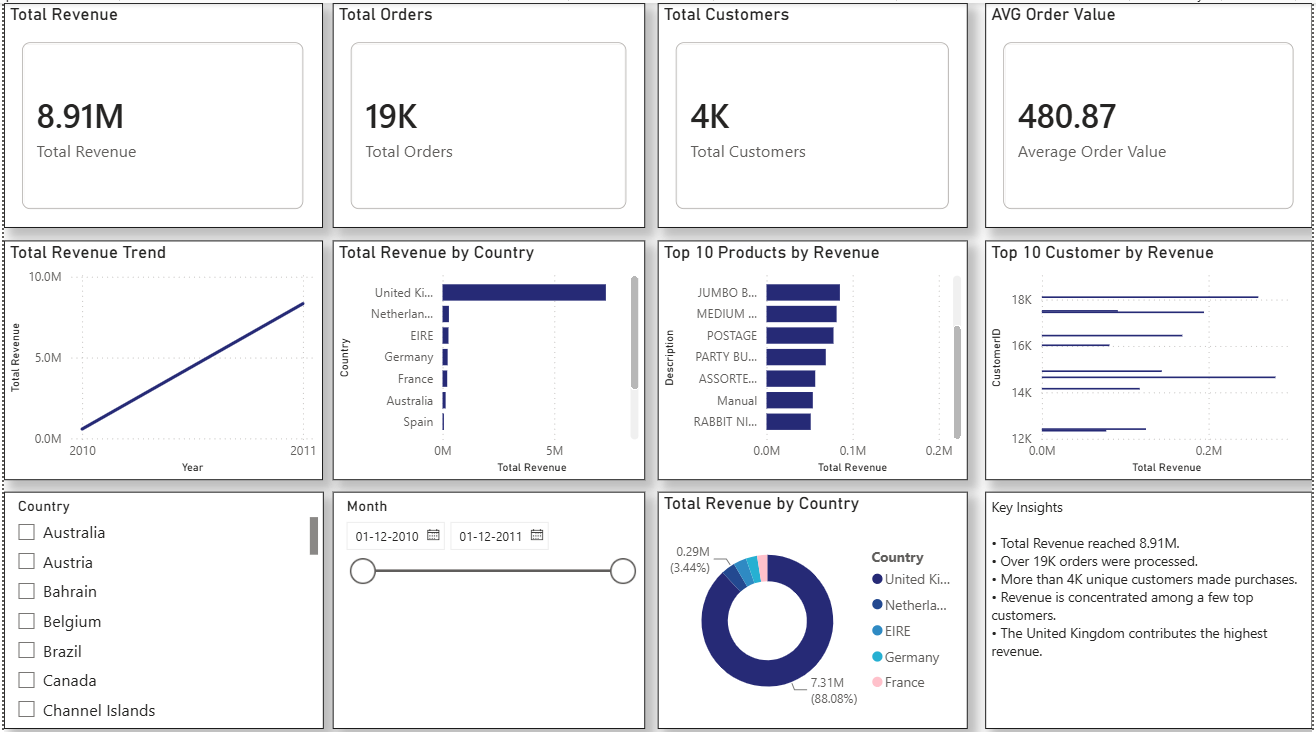

This screenshot's page, from the dashboard's own definition file:
{"tool":"powerbi","page":{"name":"Page 1","canvas":[1280,720],"ordinal":0},"visuals":[{"type":"cardVisual","title":"Total Revenue","fields":{"Data":["cleaned_ecommerce.Total Revenue"]},"box":[0,0,311.8,220.1],"z":0},{"type":"cardVisual","title":"Total Orders","fields":{"Data":["cleaned_ecommerce.Total Orders"]},"box":[321.6,0,305.7,220.1],"z":1000},{"type":"cardVisual","title":"Total Customers","fields":{"Data":["cleaned_ecommerce.Total Customers"]},"box":[639.5,0,303.3,220.1],"z":2000},{"type":"cardVisual","title":"AVG Order Value","fields":{"Data":["cleaned_ecommerce.Average Order Value"]},"box":[959.9,0,320.4,220.1],"z":3000},{"type":"lineChart","title":"Total Revenue Trend","fields":{"Category":["cleaned_ecommerce.Month.Variation.Date Hierarchy.Year","cleaned_ecommerce.Month.Variation.Date Hierarchy.Quarter","cleaned_ecommerce.Month.Variation.Date Hierarchy.Month","cleaned_ecommerce.Month.Variation.Date Hierarchy.Day"],"Y":["cleaned_ecommerce.Total Revenue"]},"box":[0,232.3,311.8,234.8],"z":4000},{"type":"clusteredBarChart","fields":{"Category":["cleaned_ecommerce.Country"],"Y":["cleaned_ecommerce.Total Revenue"]},"box":[321.6,232.3,305.7,234.8],"z":5000},{"type":"clusteredBarChart","title":"Top 10 Products by Revenue","fields":{"Category":["cleaned_ecommerce.Description"],"Y":["cleaned_ecommerce.Total Revenue"]},"box":[639.5,232.3,303.3,234.8],"z":6000},{"type":"clusteredBarChart","title":"Top 10 Customer by Revenue","fields":{"Category":["cleaned_ecommerce.CustomerID"],"Y":["cleaned_ecommerce.Total Revenue"]},"box":[959.9,232.3,320.4,234.8],"z":7000},{"type":"slicer","fields":{"Values":["cleaned_ecommerce.Country"]},"box":[0,478.1,313,232.3],"z":8000},{"type":"slicer","fields":{"Values":["cleaned_ecommerce.Month"]},"box":[321.6,478.1,305.7,232.3],"z":9000},{"type":"donutChart","fields":{"Category":["cleaned_ecommerce.Country"],"Y":["cleaned_ecommerce.Total Revenue"]},"box":[639.5,478.1,303.3,232.3],"z":10000},{"type":"textbox","box":[959.9,478.1,320.4,232.3],"z":11000}]}

Visuals, with their boxes in screenshot pixels (x1, y1, x2, y2), scaled from the page's 1280x720 canvas onto the 1316x732 screenshot:
"Total Revenue" cardVisual: (left=0, top=0, right=321, bottom=224)
"Total Orders" cardVisual: (left=331, top=0, right=645, bottom=224)
"Total Customers" cardVisual: (left=657, top=0, right=969, bottom=224)
"AVG Order Value" cardVisual: (left=987, top=0, right=1315, bottom=224)
"Total Revenue Trend" lineChart: (left=0, top=236, right=321, bottom=475)
clusteredBarChart - cleaned_ecommerce.Country x cleaned_ecommerce.Total Revenue: (left=331, top=236, right=645, bottom=475)
"Top 10 Products by Revenue" clusteredBarChart: (left=657, top=236, right=969, bottom=475)
"Top 10 Customer by Revenue" clusteredBarChart: (left=987, top=236, right=1315, bottom=475)
slicer - cleaned_ecommerce.Country: (left=0, top=486, right=322, bottom=722)
slicer - cleaned_ecommerce.Month: (left=331, top=486, right=645, bottom=722)
donutChart - cleaned_ecommerce.Country x cleaned_ecommerce.Total Revenue: (left=657, top=486, right=969, bottom=722)
textbox: (left=987, top=486, right=1315, bottom=722)
